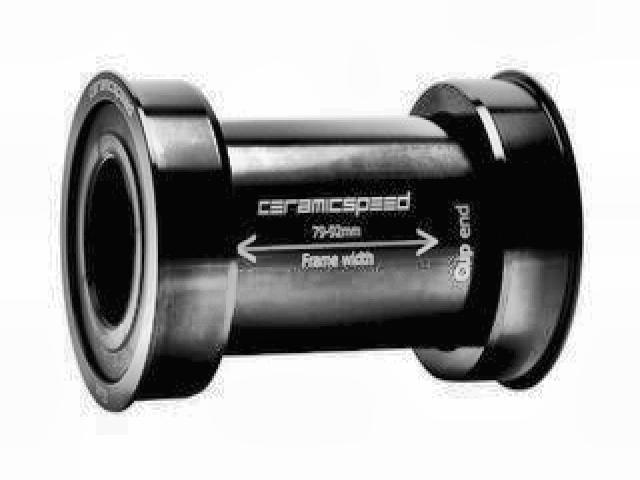bottom_bracket: (57, 66, 587, 415)
